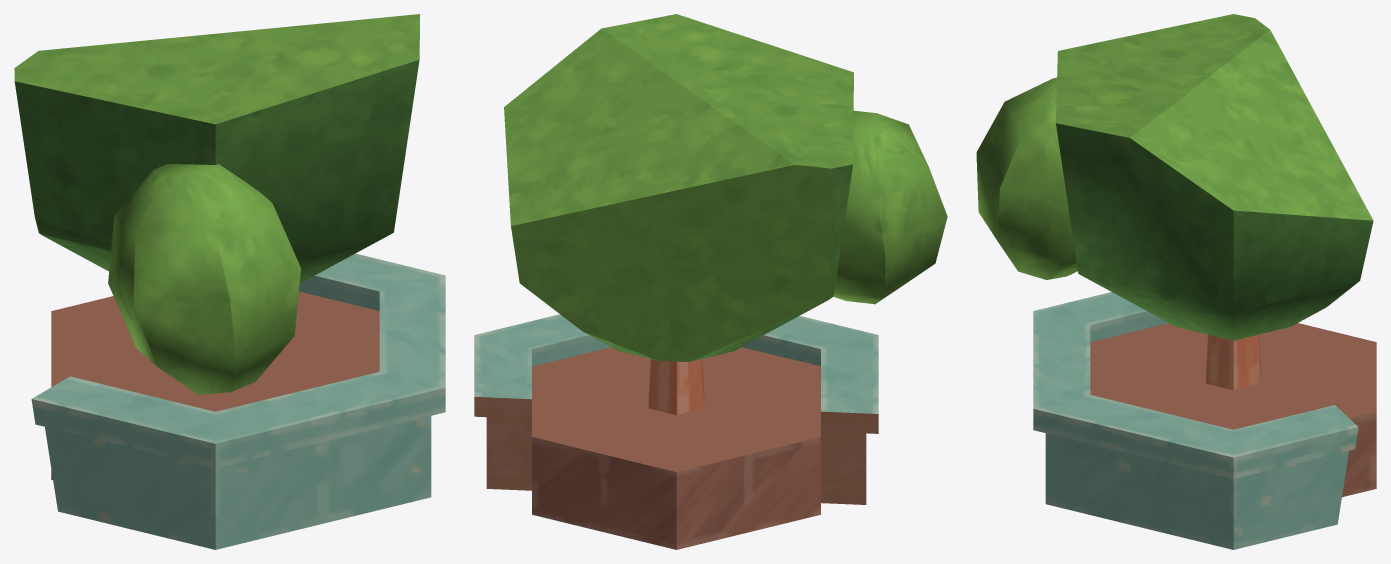
File: cypress_s03.fbx
3 renders of one model, left to right at view 1: azimuth 30°, elevation 25°; view 2: azimuth 150°, elevation 25°; view 3: azimuth 270°, elevation 25°, orthographic. The views are drawn at different scales.
Visible parts, largest first — view 1: cypress_s03; view 2: cypress_s03; view 3: cypress_s03.
Boxes of the visible parts, left/top/right/bottom form: cypress_s03: left=14, top=14, right=445, bottom=549; cypress_s03: left=474, top=14, right=947, bottom=549; cypress_s03: left=976, top=14, right=1376, bottom=549.
Size of the model in its own units: 4.66 by 4.47 by 4.24.
